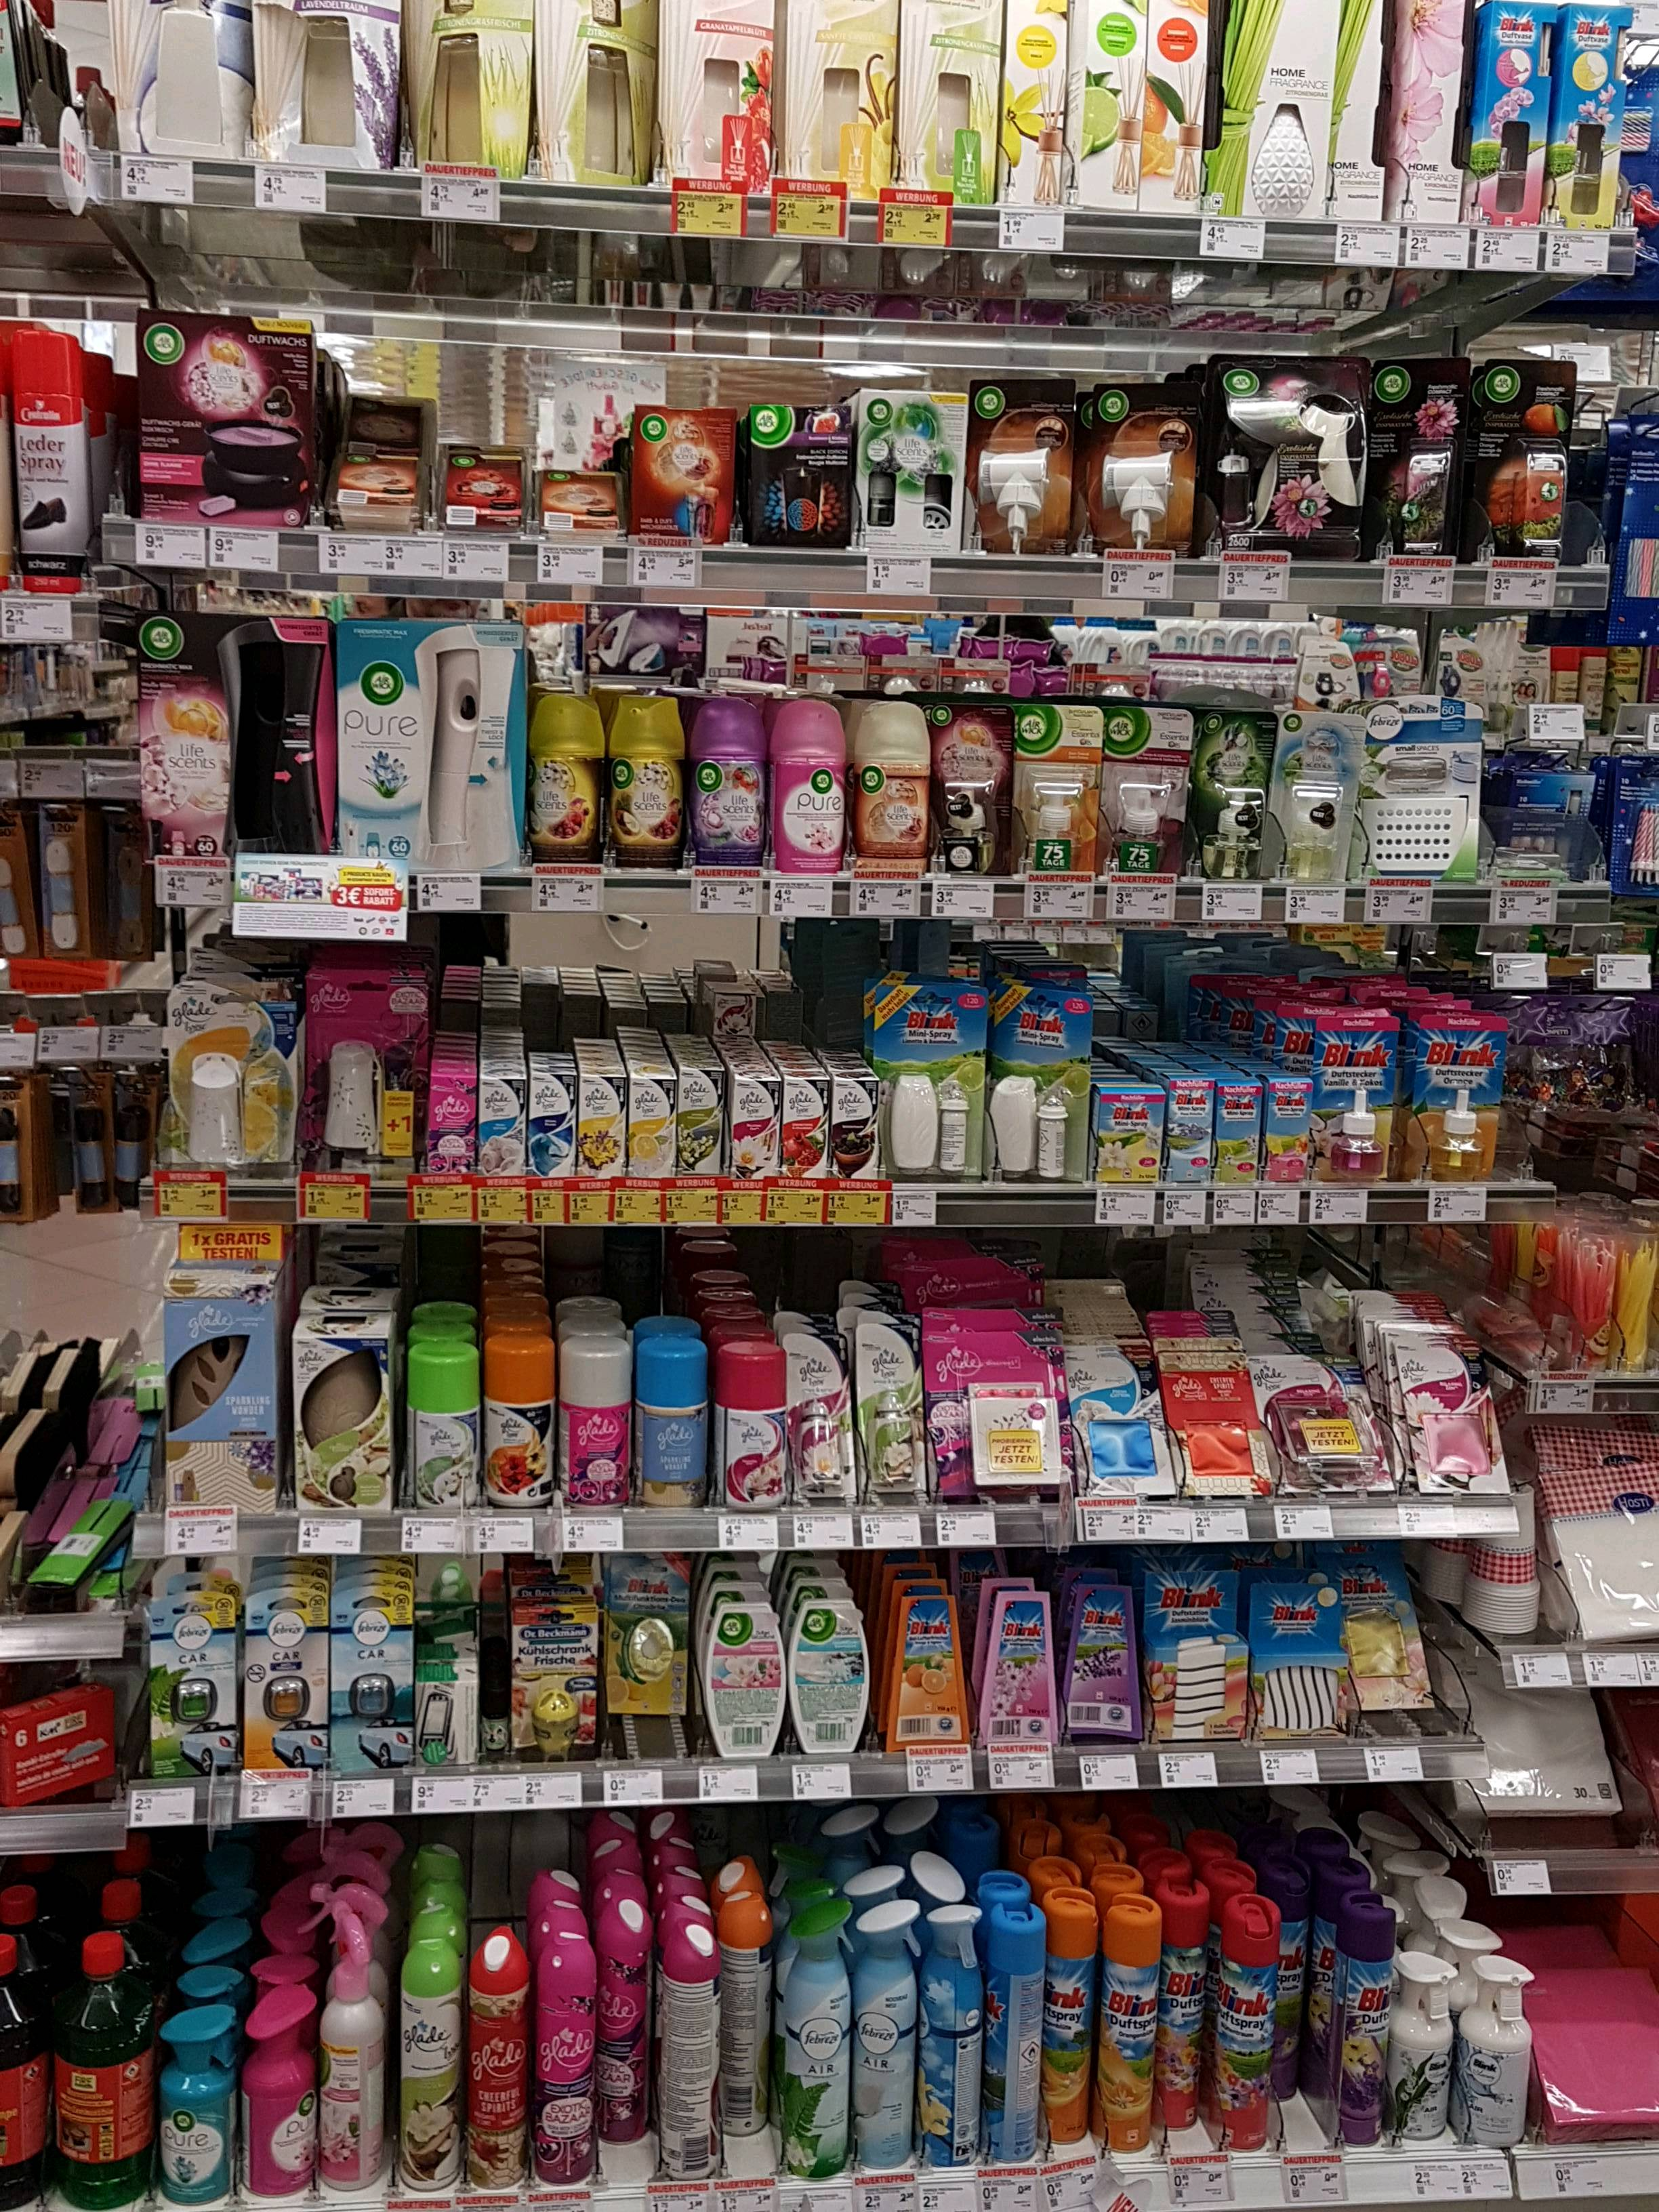Misplacement: (596, 1897, 664, 2191)
